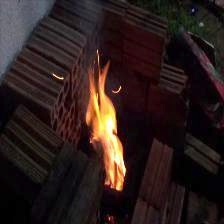fire: (81, 57, 128, 202)
